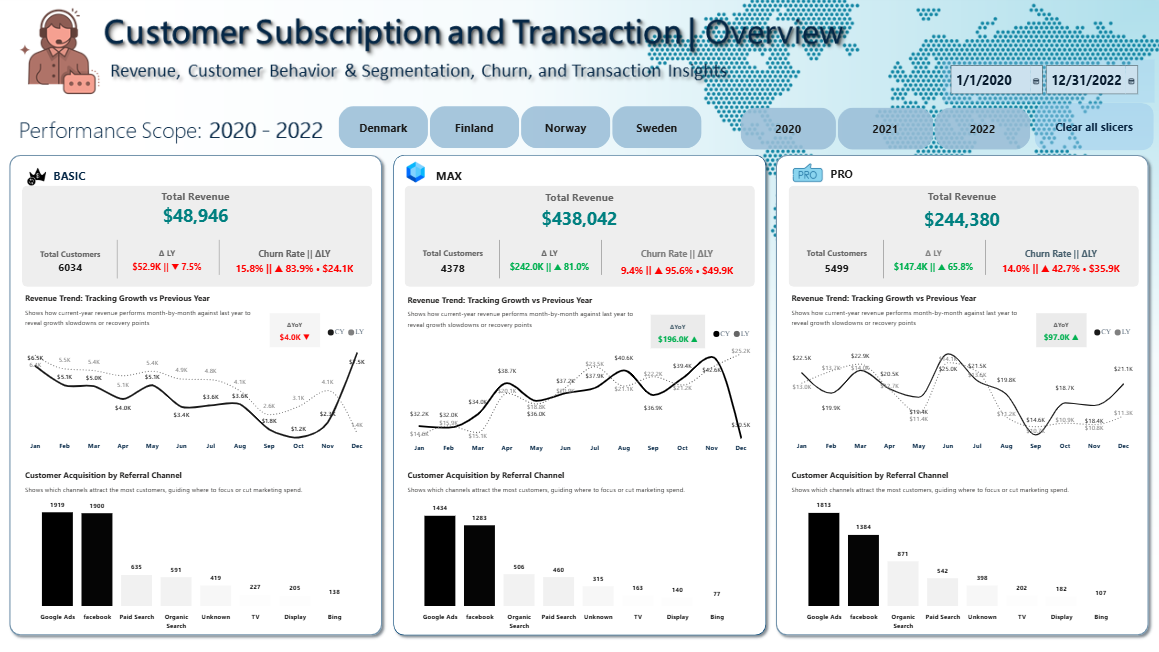

The dashboard page shown, as its layout file describes it:
{"tool":"powerbi","page":{"name":"Customer Subscription O","canvas":[1950,1100],"ordinal":1},"visuals":[{"type":"shape","box":[653.9,258.4,639.2,818.8],"z":0},{"type":"advancedSlicerVisual","title":"Select  Year","fields":{"Values":["DateTable.Year"],"Label":["DAX Measure.Churn Rate Color"]},"box":[1237.6,182.6,493.4,80],"z":1000},{"type":"shape","box":[15.7,258.4,639.2,818.8],"z":1000,"group":"g3"},{"type":"shape","box":[1292.2,258.4,639.2,818.8],"z":1000,"group":"g1"},{"type":"slicer","fields":{"Values":["DateTable.Date"]},"box":[1580.5,106.9,352.9,72.1],"z":2000},{"type":"lineChart","title":"Revenue and Total Customers by Month","fields":{"Y":["All Measure.Revenue – BASIC"],"Category":["DateTable.monthshort"],"Y2":["DAX Measure.Revenue LY (Basic)"]},"box":[43.8,543.7,585,226.2],"z":2000,"group":"g3"},{"type":"advancedSlicerVisual","fields":{"Values":["customerST.customer_country"]},"box":[567,179.9,616.1,80],"z":3000},{"type":"lineChart","title":"Revenue and Total Customers by Month","fields":{"Y":["DAX Measure.Revenue PRO"],"Category":["DateTable.monthshort"],"Y2":["DAX Measure.Revenue LY (PRO)"]},"box":[1320.3,543.7,585,226.2],"z":3000,"group":"g1"},{"type":"actionButton","box":[1733.7,179.9,199,79.1],"z":4000},{"type":"lineChart","title":"Revenue and Total Customers by Month","fields":{"Y":["DAX Measure.Revenue – MAX"],"Category":["DateTable.monthshort"],"Y2":["DAX Measure.Revenue LY (MAX)"]},"box":[682,543.8,585,226.2],"z":4000,"group":"g2"},{"type":"clusteredColumnChart","fields":{"Category":["customerST.referral_type"],"Y":["All Measure.BASIC Customers"]},"box":[37.5,827.7,586.1,237.5],"z":4000,"group":"g3"},{"type":"group","id":"g1","title":"Group 2","box":[1292.2,258.4,639.2,818.8],"z":5000},{"type":"group","id":"g2","title":"Group 3","box":[675.4,272.5,594.1,792.8],"z":6000},{"type":"clusteredColumnChart","fields":{"Category":["customerST.referral_type"],"Y":["DAX Measure.PRO Customers"]},"box":[1314,827.7,586.1,237.5],"z":6000,"group":"g1"},{"type":"group","id":"g3","title":"Group 4","box":[15.7,258.4,639.2,818.8],"z":7000},{"type":"textbox","box":[44.5,491.6,323.6,34.7],"z":8000,"group":"g3"},{"type":"clusteredColumnChart","fields":{"Category":["customerST.referral_type"],"Y":["DAX Measure.MAX Customers"]},"box":[675.8,827.8,586.1,237.5],"z":8000,"group":"g2"},{"type":"image","box":[675.4,272.5,52.2,44.9],"z":10000,"group":"g2"},{"type":"textbox","box":[93,282.4,126.3,43.9],"z":10000,"group":"g3"},{"type":"shape","box":[44.7,318,584,169],"z":11000,"group":"g3"},{"type":"textbox","box":[1321,491.6,323.6,34.7],"z":11000,"group":"g1"},{"type":"image","box":[43.9,280.7,54.4,45.6],"z":12000,"group":"g3"},{"type":"textbox","box":[682.7,491.7,323.6,34.7],"z":13000,"group":"g2"},{"type":"textbox","box":[44.5,786.1,286.1,41.7],"z":13000,"group":"g3"},{"type":"image","box":[1322,265.9,64.6,62.1],"z":14000,"group":"g1"},{"type":"cardVisual","fields":{"Data":["All Measure.Revenue – BASIC"]},"box":[163.8,306.2,343.8,90],"z":14000,"group":"g3"},{"type":"shape","box":[1321.2,318,584,169],"z":15000,"group":"g1"},{"type":"textbox","box":[731.3,282.5,126.3,43.9],"z":16000,"group":"g2"},{"type":"group","id":"g4","title":"Group 1","box":[45,402.5,586.2,80],"z":16000,"group":"g3"},{"type":"shape","box":[683,318.1,584,169],"z":17000,"group":"g2"},{"type":"cardVisual","fields":{"Data":["DAX Measure.Revenue YoY Amount (Basic)"]},"box":[452.3,526.8,94.4,67.1],"z":17000,"group":"g3"},{"type":"textbox","box":[44.5,513.8,394.4,45.8],"z":18000,"group":"g3"},{"type":"textbox","box":[1321,786.1,286.1,41.7],"z":18000,"group":"g1"},{"type":"textbox","box":[682.7,786.1,286.1,41.7],"z":19000,"group":"g2"},{"type":"textbox","box":[44.5,808.3,522.2,41.7],"z":19000,"group":"g3"},{"type":"cardVisual","fields":{"Data":["DAX Measure.Revenue PRO"]},"box":[1440.3,306.2,343.8,90],"z":20000,"group":"g1"},{"type":"cardVisual","fields":{"Data":["All Measure.BASIC Customers"]},"box":[45,402.5,161.5,80],"z":20000,"group":"g4"},{"type":"cardVisual","fields":{"Data":["DAX Measure.Revenue (MAX)"]},"box":[802,306.3,343.8,90],"z":21000,"group":"g2"},{"type":"cardVisual","fields":{"Data":["DAX Measure.Revenue LY Label (Basic)"]},"box":[197.8,402.5,178.9,75.7],"z":21000,"group":"g4"},{"type":"cardVisual","fields":{"Data":["DAX Measure.Revenue YoY Amount (MAX)"]},"box":[1087,527.6,101.4,66.7],"z":22000,"group":"g2"},{"type":"textbox","box":[682.7,513.9,394.4,45.8],"z":23000,"group":"g2"},{"type":"cardVisual","fields":{"Data":["DAX Measure.Revenue YoY Amount (PRO)"]},"box":[1728.8,526.8,94.4,67.1],"z":24000,"group":"g1"},{"type":"cardVisual","fields":{"Data":["DAX Measure.Churn Label LY (Basic)"]},"box":[367.9,402.5,263.3,69.2],"z":25000,"group":"g4"},{"type":"textbox","box":[682.7,808.4,522.2,41.7],"z":25000,"group":"g2"},{"type":"textbox","box":[1321,513.8,394.4,45.8],"z":26000,"group":"g1"},{"type":"cardVisual","fields":{"Data":["DAX Measure.MAX Customers"]},"box":[683.3,402.5,161.5,80],"z":27000,"group":"g2"},{"type":"textbox","box":[1321,808.3,522.2,41.7],"z":28000,"group":"g1"},{"type":"cardVisual","fields":{"Data":["DAX Measure.Revenue LY Label (MAX)"]},"box":[836.1,402.5,178.9,75.7],"z":29000,"group":"g2"},{"type":"cardVisual","fields":{"Data":["DAX Measure.PRO Customers"]},"box":[1321.5,402.5,161.5,80],"z":30000,"group":"g1"},{"type":"cardVisual","fields":{"Data":["DAX Measure.New Churn Label (Max)"]},"box":[1006.2,402.5,263.3,69.2],"z":31000,"group":"g2"},{"type":"cardVisual","fields":{"Data":["DAX Measure.Revenue LY Label (PRO)"]},"box":[1474.3,402.5,178.9,75.7],"z":32000,"group":"g1"},{"type":"textbox","box":[1386.6,280.8,126.7,42.2],"z":33000,"group":"g1"},{"type":"cardVisual","fields":{"Data":["DAX Measure.Churn Label LY (PRO)"]},"box":[1644.4,402.5,263.3,69.2],"z":34000,"group":"g1"}]}

Visuals, with their boxes in screenshot pixels (x1, y1, x2, y2), scaled from the page's 1950x1100 canvas onto the 1159x652 screenshot:
shape: (389,153,769,638)
"Select  Year" advancedSlicerVisual: (736,108,1029,156)
shape: (9,153,389,638)
shape: (768,153,1148,638)
slicer - DateTable.Date: (939,63,1149,106)
"Revenue and Total Customers by Month" lineChart: (26,322,374,456)
advancedSlicerVisual - customerST.customer_country: (337,107,703,154)
"Revenue and Total Customers by Month" lineChart: (785,322,1132,456)
actionButton: (1030,107,1149,154)
"Revenue and Total Customers by Month" lineChart: (405,322,753,456)
clusteredColumnChart - customerST.referral_type x All Measure.BASIC Customers: (22,491,371,631)
"Group 2" group: (768,153,1148,638)
"Group 3" group: (401,162,755,631)
clusteredColumnChart - customerST.referral_type x DAX Measure.PRO Customers: (781,491,1129,631)
"Group 4" group: (9,153,389,638)
textbox: (26,291,219,312)
clusteredColumnChart - customerST.referral_type x DAX Measure.MAX Customers: (402,491,750,631)
image: (401,162,432,188)
textbox: (55,167,130,193)
shape: (27,188,374,289)
textbox: (785,291,977,312)
image: (26,166,58,193)
textbox: (406,291,598,312)
textbox: (26,466,196,491)
image: (786,158,824,194)
cardVisual - All Measure.Revenue – BASIC: (97,181,302,235)
shape: (785,188,1132,289)
textbox: (435,167,510,193)
"Group 1" group: (27,239,375,286)
shape: (406,189,753,289)
cardVisual - DAX Measure.Revenue YoY Amount (Basic): (269,312,325,352)
textbox: (26,305,261,332)
textbox: (785,466,955,491)
textbox: (406,466,576,491)
textbox: (26,479,337,504)
cardVisual - DAX Measure.Revenue PRO: (856,181,1060,235)
cardVisual - All Measure.BASIC Customers: (27,239,123,286)
cardVisual - DAX Measure.Revenue (MAX): (477,182,681,235)
cardVisual - DAX Measure.Revenue LY Label (Basic): (118,239,224,283)
cardVisual - DAX Measure.Revenue YoY Amount (MAX): (646,313,706,352)
textbox: (406,305,640,332)
cardVisual - DAX Measure.Revenue YoY Amount (PRO): (1028,312,1084,352)
cardVisual - DAX Measure.Churn Label LY (Basic): (219,239,375,280)
textbox: (406,479,716,504)
textbox: (785,305,1020,332)
cardVisual - DAX Measure.MAX Customers: (406,239,502,286)
textbox: (785,479,1096,504)
cardVisual - DAX Measure.Revenue LY Label (MAX): (497,239,603,283)
cardVisual - DAX Measure.PRO Customers: (785,239,881,286)
cardVisual - DAX Measure.New Churn Label (Max): (598,239,755,280)
cardVisual - DAX Measure.Revenue LY Label (PRO): (876,239,983,283)
textbox: (824,166,899,191)
cardVisual - DAX Measure.Churn Label LY (PRO): (977,239,1134,280)
